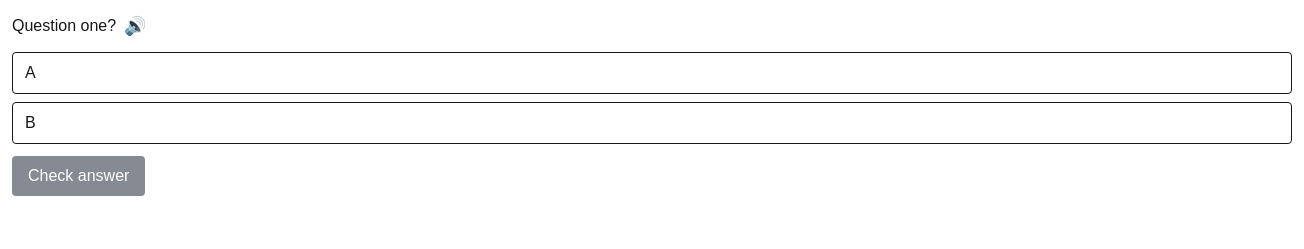
Test case: ExerciseRunner › shows an error message instead of a false result when the submit request fails
Click the button "B": [30, 122] box [12,102,1292,144]
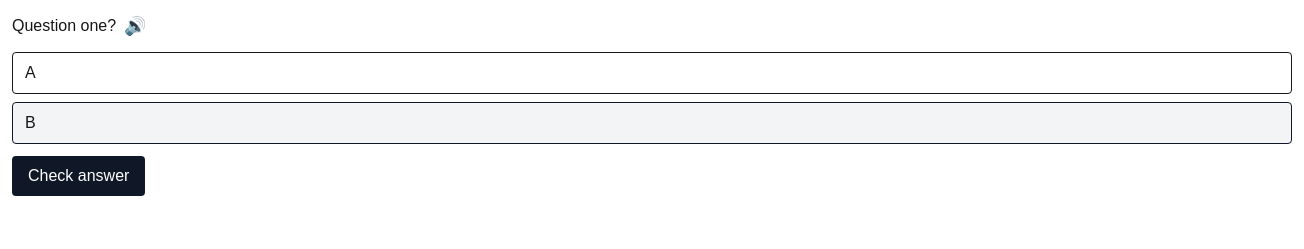
Click the button "Check answer": [79, 176] box [12,156,145,196]
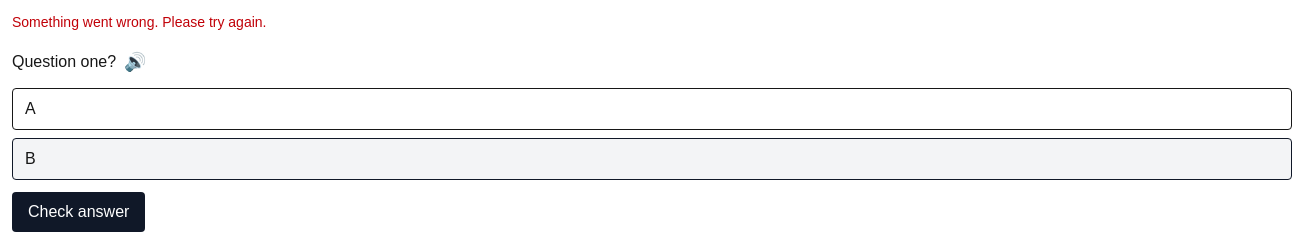
Now the text "Something went wrong. Please try again." is shown, box [12,14,266,30]
